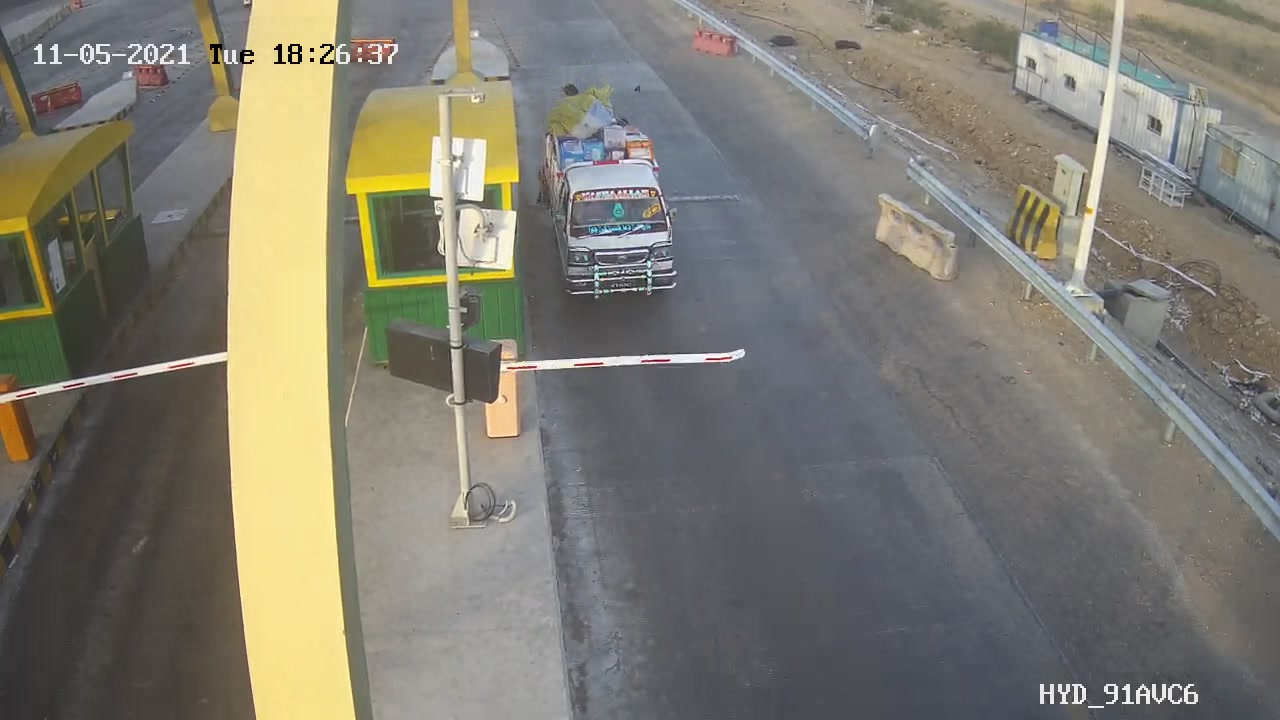F1: (541, 99, 700, 310)
